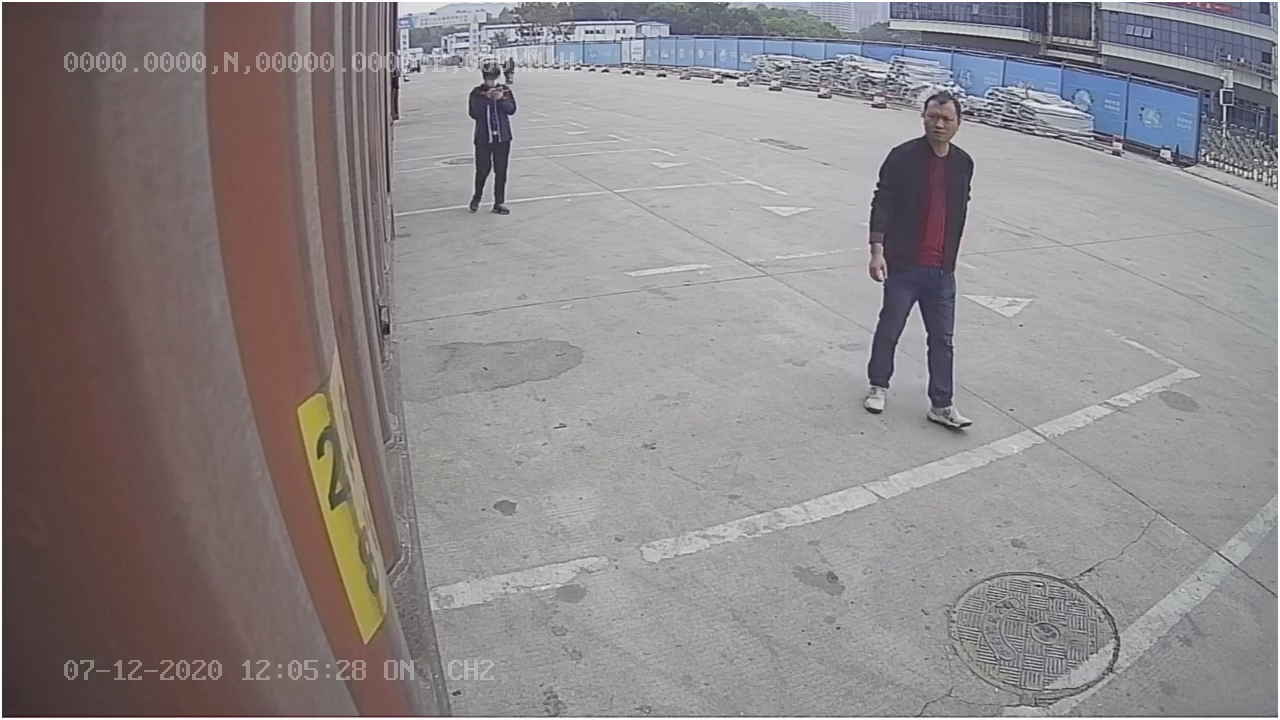person: (863, 90, 984, 434)
